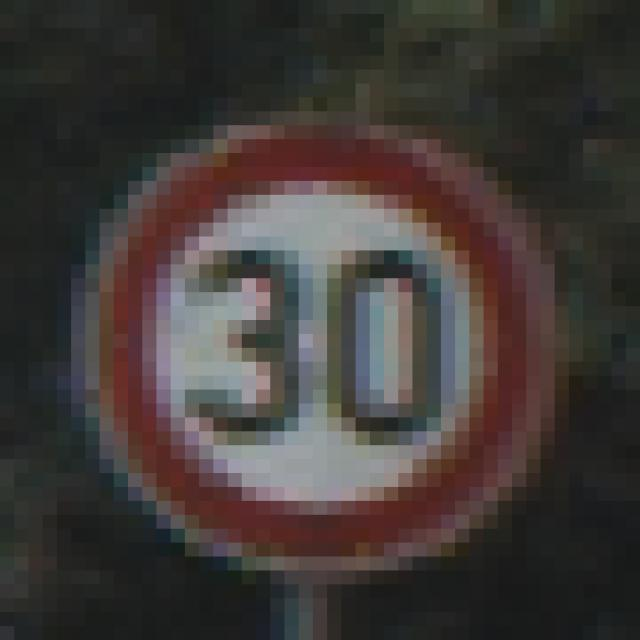Speed Limit -30-: (64, 76, 548, 564)
